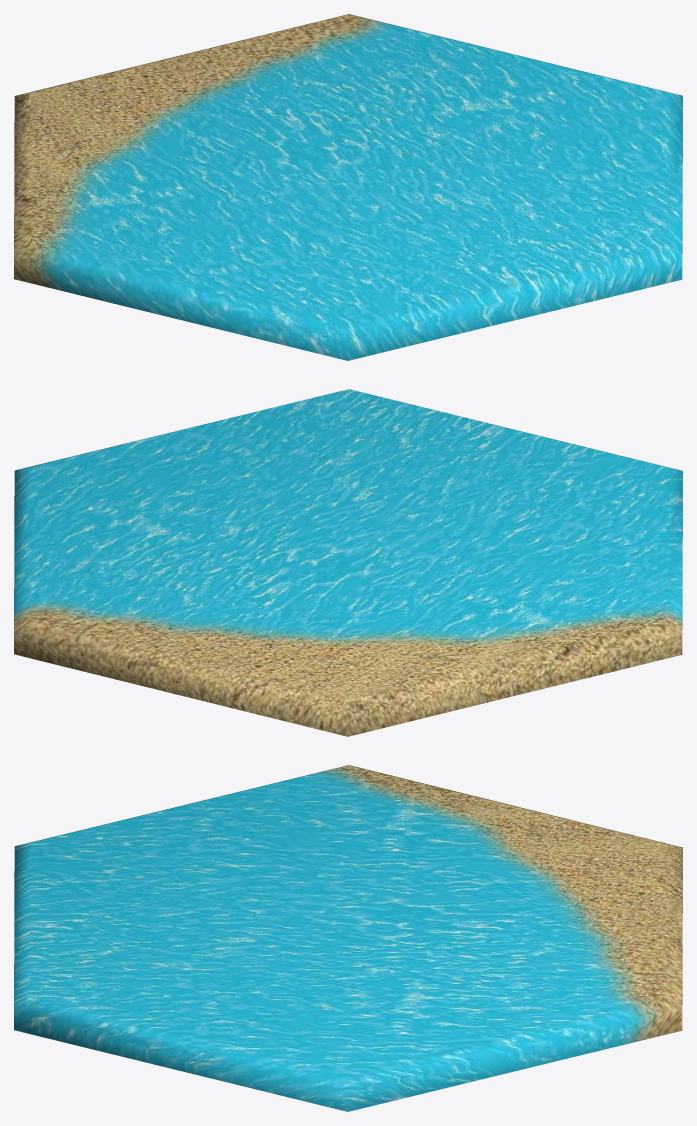
The model's file is bluehex3.fbx.
3 renders of one model, top to bottom at view 1: azimuth 30°, elevation 25°; view 2: azimuth 150°, elevation 25°; view 3: azimuth 270°, elevation 25°, orthographic.
Parts seen in each view (by area): view 1: Hexa; view 2: Hexa; view 3: Hexa.
Part boxes in pixels (x1=…): Hexa: x1=14, y1=14, x2=682, y2=360; Hexa: x1=14, y1=389, x2=682, y2=736; Hexa: x1=14, y1=765, x2=682, y2=1111.
Bounding box in the file's own units: 24.41 × 1.01 × 21.16.
Materials: 1 (1 with a texture image).
